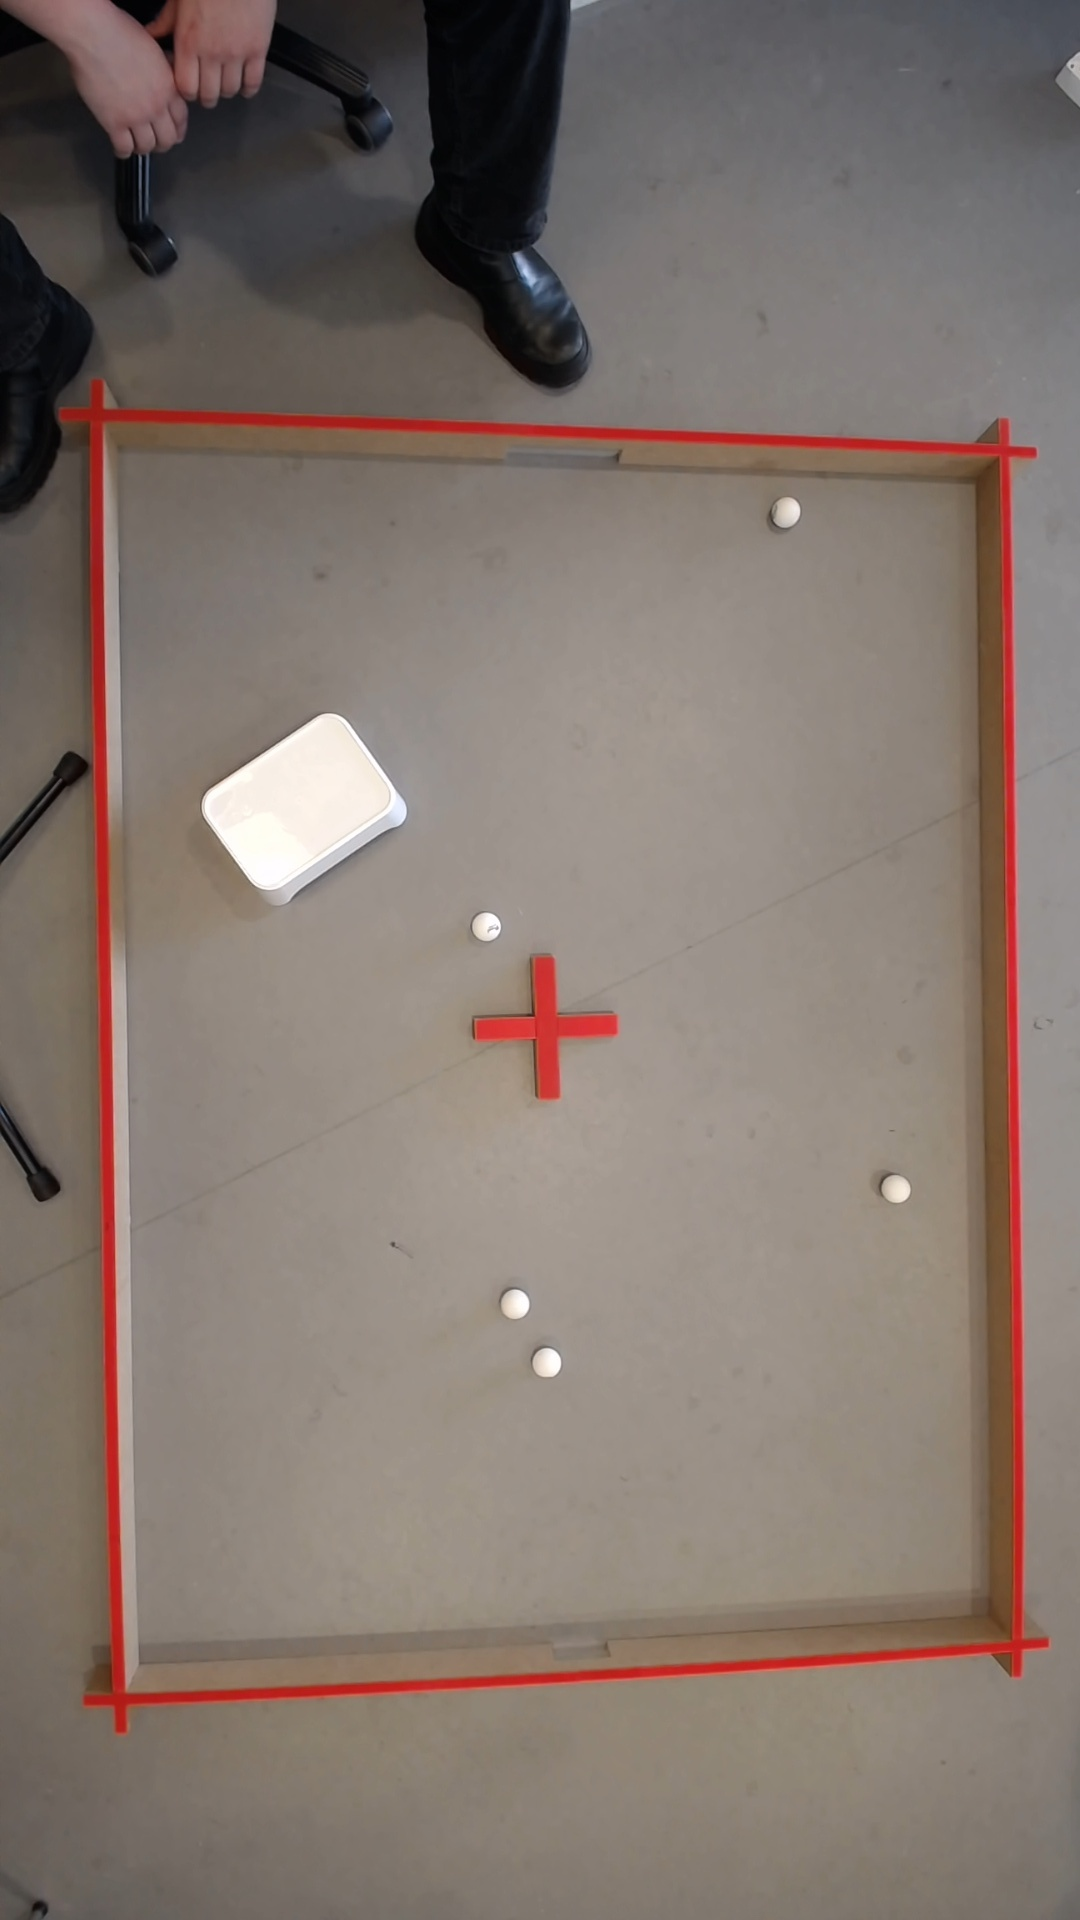balls: (191, 702, 413, 913), (468, 906, 505, 944), (531, 1345, 564, 1381), (882, 1174, 914, 1205), (505, 1288, 529, 1317)
car: (775, 495, 804, 525)
